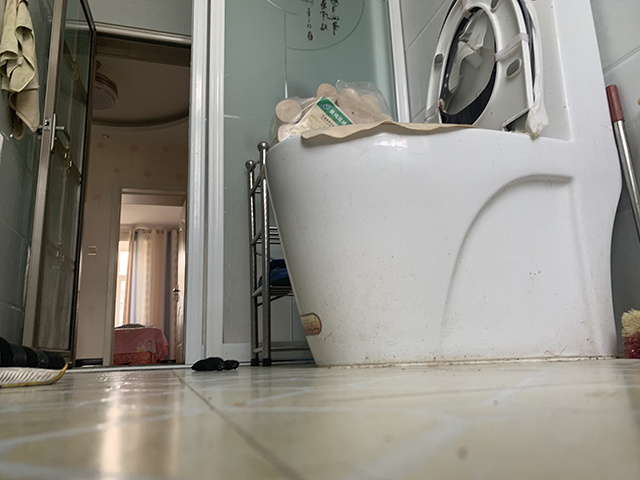bed: (111, 322, 170, 367)
closestool: (262, 1, 625, 371)
curtain: (121, 224, 179, 361)
feces: (190, 355, 240, 372)
